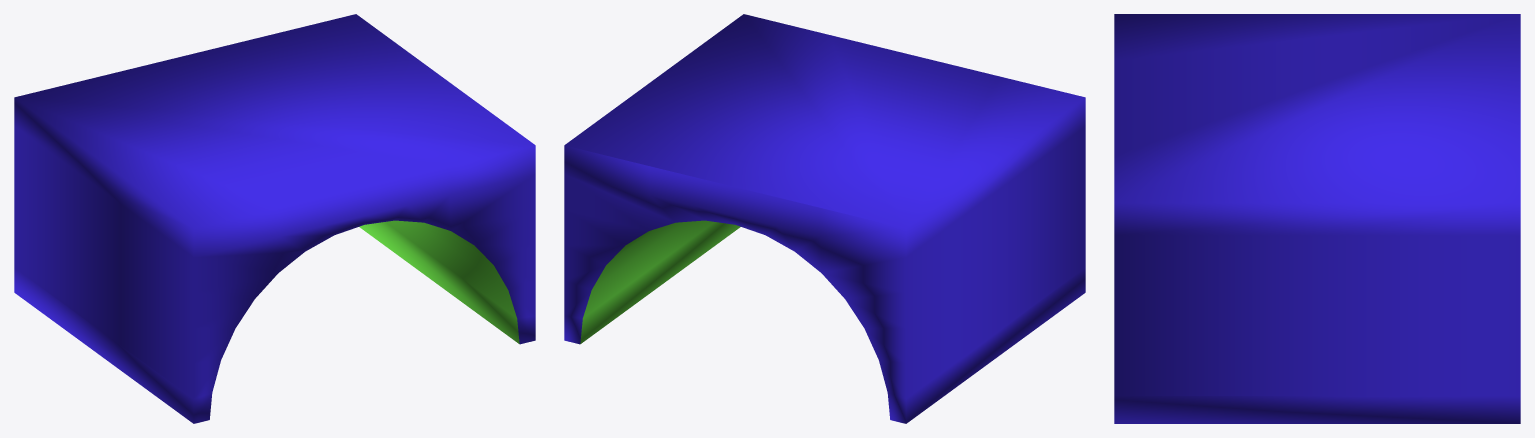
Rendered from cubeTunnelNEW.fbx.
The picture shows the model from 3 angles, left to right: view 1: azimuth 30°, elevation 25°; view 2: azimuth 150°, elevation 25°; view 3: azimuth 270°, elevation 25°; orthographic projection. The views are drawn at different scales.
Visible parts, largest first — view 1: CubeTunnel; view 2: CubeTunnel; view 3: CubeTunnel.
Part boxes in pixels (left/top/right/bottom): CubeTunnel: left=14, top=14, right=535, bottom=423; CubeTunnel: left=564, top=14, right=1085, bottom=423; CubeTunnel: left=1114, top=14, right=1520, bottom=423.
Size of the model in its own units: 220 by 120 by 200.
